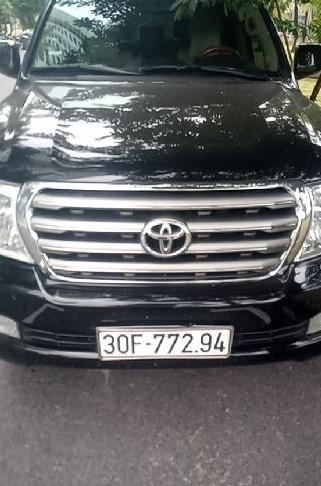Plate-iWeP: (97, 323, 236, 362)
